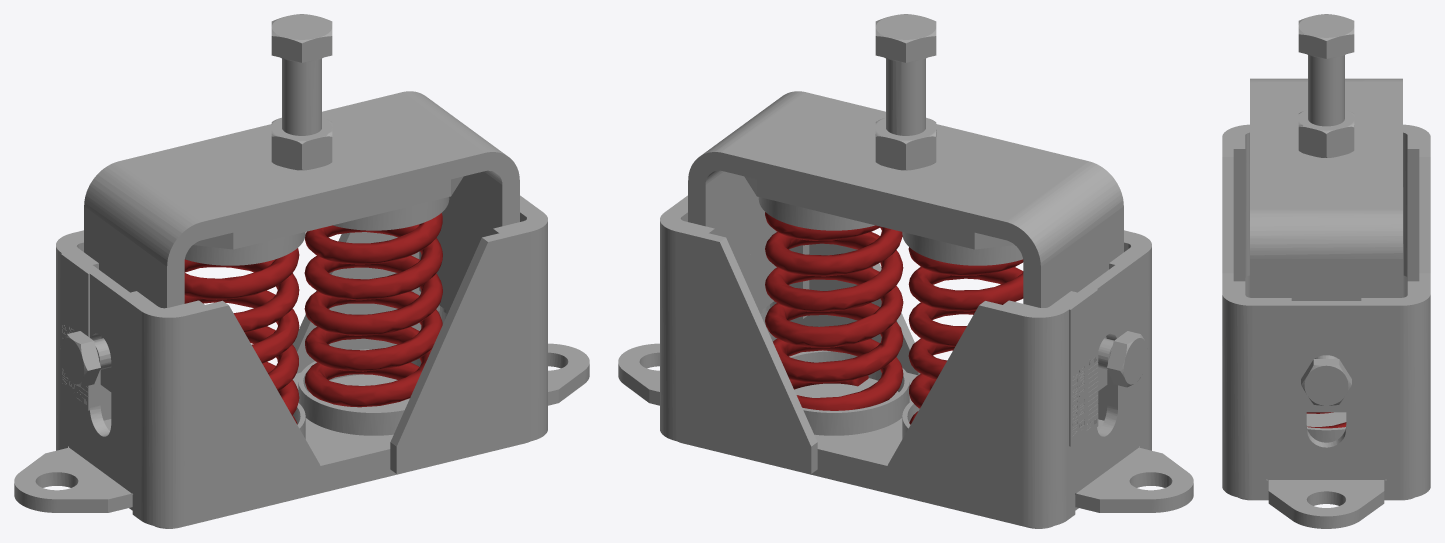
The model's file is ANTISEISMIC_SYLOMER.fbx.
3 renders of one model, left to right at view 1: azimuth 30°, elevation 25°; view 2: azimuth 150°, elevation 25°; view 3: azimuth 270°, elevation 25°, orthographic. The views are drawn at different scales.
Parts seen in each view (by area): view 1: ANTISEISMIC_SYLOMER_Metal, ANTISEISMIC_SYLOMER_Muelle; view 2: ANTISEISMIC_SYLOMER_Metal, ANTISEISMIC_SYLOMER_Muelle; view 3: ANTISEISMIC_SYLOMER_Metal.
Boxes of the visible parts, bbox=[...] form: ANTISEISMIC_SYLOMER_Metal: bbox=[14, 14, 589, 528]; ANTISEISMIC_SYLOMER_Muelle: bbox=[184, 213, 442, 424]; ANTISEISMIC_SYLOMER_Metal: bbox=[618, 14, 1193, 528]; ANTISEISMIC_SYLOMER_Muelle: bbox=[765, 212, 1023, 424]; ANTISEISMIC_SYLOMER_Metal: bbox=[1222, 14, 1430, 528].
Size of the model in its own units: 10.14 by 7.24 by 3.52.
